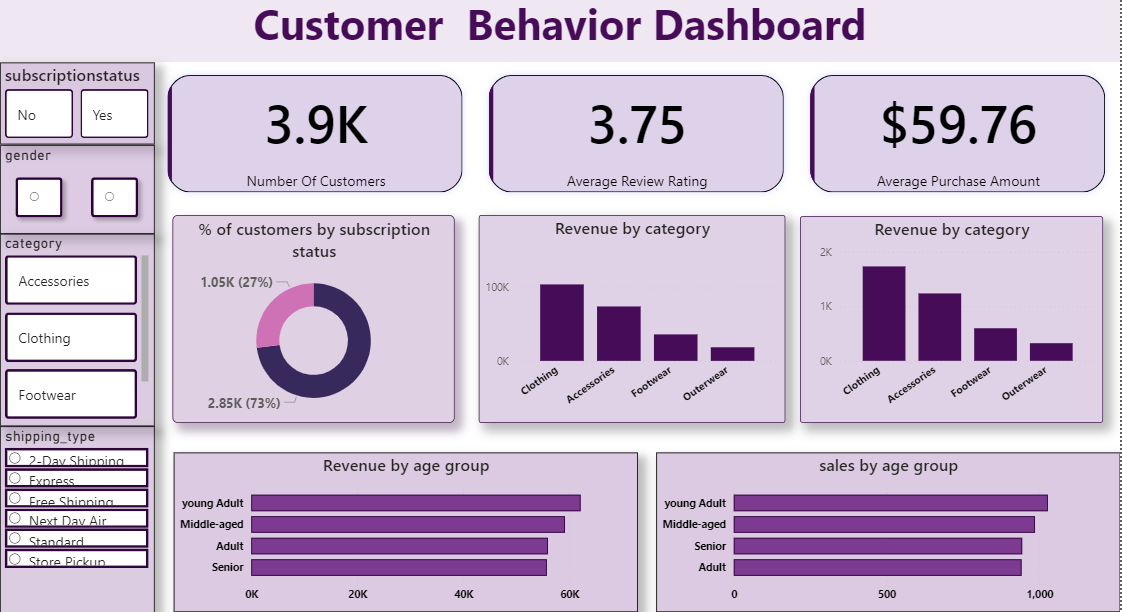

This screenshot's page, from the dashboard's own definition file:
{"tool":"powerbi","page":{"name":"Page 1","canvas":[1280,720],"ordinal":0},"visuals":[{"type":"cardVisual","fields":{"Data":["cleaned_customer_data.Number Of Customers","cleaned_customer_data.Average Review Rating","cleaned_customer_data.Average Purchase Amount"]},"box":[176,82,1104,166],"z":0},{"type":"textbox","box":[0,0,1280,82.5],"z":1000},{"type":"donutChart","title":"% of customers by subscription status","fields":{"Category":["cleaned_customer_data.subscription_status"],"Y":["CountNonNull(cleaned_customer_data.customer_id)"]},"box":[197.5,257.5,322.5,237.5],"z":2000},{"type":"clusteredColumnChart","title":"Revenue  by category","fields":{"Y":["Sum(cleaned_customer_data.purchase_amount)"],"Category":["cleaned_customer_data.category"]},"box":[547.5,257.5,350,237.5],"z":3000},{"type":"clusteredColumnChart","title":"Revenue  by category","fields":{"Y":["CountNonNull(cleaned_customer_data.customer_id)"],"Category":["cleaned_customer_data.category"]},"box":[914,258,346,236],"z":4000},{"type":"advancedSlicerVisual","title":"subscriptionstatus","fields":{"Values":["cleaned_customer_data.subscription_status"]},"box":[0,83.3,176.7,93.3],"z":5000},{"type":"advancedSlicerVisual","fields":{"Values":["cleaned_customer_data.gender"]},"box":[0,176.7,176.7,101.7],"z":6000},{"type":"advancedSlicerVisual","fields":{"Values":["cleaned_customer_data.category"]},"box":[0,278.3,176.7,220],"z":7000},{"type":"listSlicer","fields":{"Values":["cleaned_customer_data.shipping_type"]},"box":[0,498.3,176.7,221.7],"z":8000},{"type":"clusteredBarChart","title":"Revenue by age group","fields":{"Y":["Sum(cleaned_customer_data.purchase_amount)"],"Category":["cleaned_customer_data.age_group"]},"box":[198,528,530,182],"z":9000},{"type":"clusteredBarChart","title":"sales by age group","fields":{"Y":["CountNonNull(cleaned_customer_data.customer_id)"],"Category":["cleaned_customer_data.age_group"]},"box":[750,528,530,182],"z":9001}]}

Visuals, with their boxes on the page's 1280x720 design canvas (x1, y1, x2, y2). These are canvas units, not pixel positions in the 1122x612 screenshot, which may show the page scaled, cropped or inside an application window:
cardVisual - cleaned_customer_data.Number Of Customers x cleaned_customer_data.Average Review Rating: <region>176, 82, 1280, 248</region>
textbox: <region>0, 0, 1280, 82</region>
"% of customers by subscription status" donutChart: <region>198, 258, 520, 495</region>
"Revenue  by category" clusteredColumnChart: <region>548, 258, 898, 495</region>
"Revenue  by category" clusteredColumnChart: <region>914, 258, 1260, 494</region>
"subscriptionstatus" advancedSlicerVisual: <region>0, 83, 177, 177</region>
advancedSlicerVisual - cleaned_customer_data.gender: <region>0, 177, 177, 278</region>
advancedSlicerVisual - cleaned_customer_data.category: <region>0, 278, 177, 498</region>
listSlicer - cleaned_customer_data.shipping_type: <region>0, 498, 177, 720</region>
"Revenue by age group" clusteredBarChart: <region>198, 528, 728, 710</region>
"sales by age group" clusteredBarChart: <region>750, 528, 1280, 710</region>
